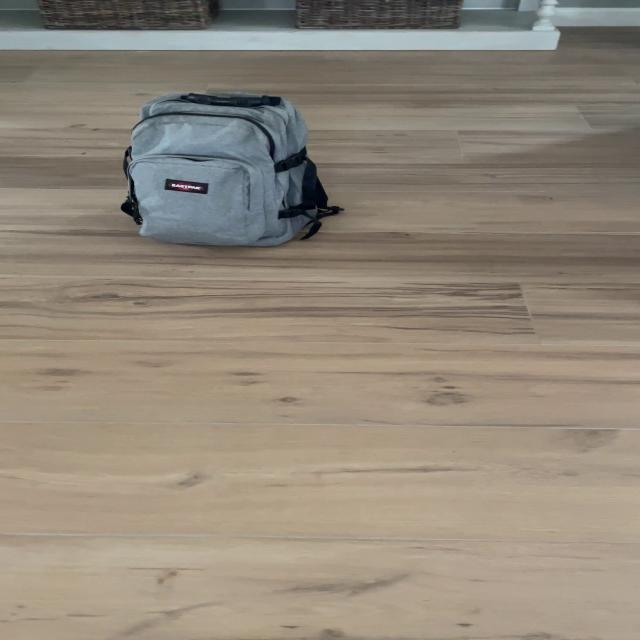backpack: (110, 84, 342, 252)
